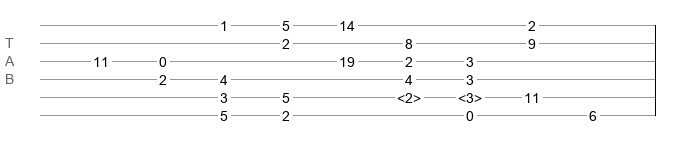0: (159, 54, 167, 64), (466, 108, 474, 118)
1: (220, 18, 228, 28)
11: (93, 54, 109, 64), (524, 90, 540, 100)
14: (339, 18, 355, 28)
19: (339, 54, 355, 64)
2: (159, 72, 167, 82), (282, 108, 290, 118), (282, 36, 290, 46), (405, 54, 413, 64), (528, 18, 536, 28)
3: (220, 90, 228, 100), (466, 72, 474, 82), (466, 54, 474, 64)
4: (220, 72, 228, 82), (405, 72, 413, 82)
5: (220, 108, 228, 118), (282, 90, 290, 100), (282, 18, 290, 28)
6: (589, 108, 597, 118)
8: (405, 36, 413, 46)
9: (528, 36, 536, 46)
harmonic: (397, 90, 421, 100), (458, 90, 482, 100)
